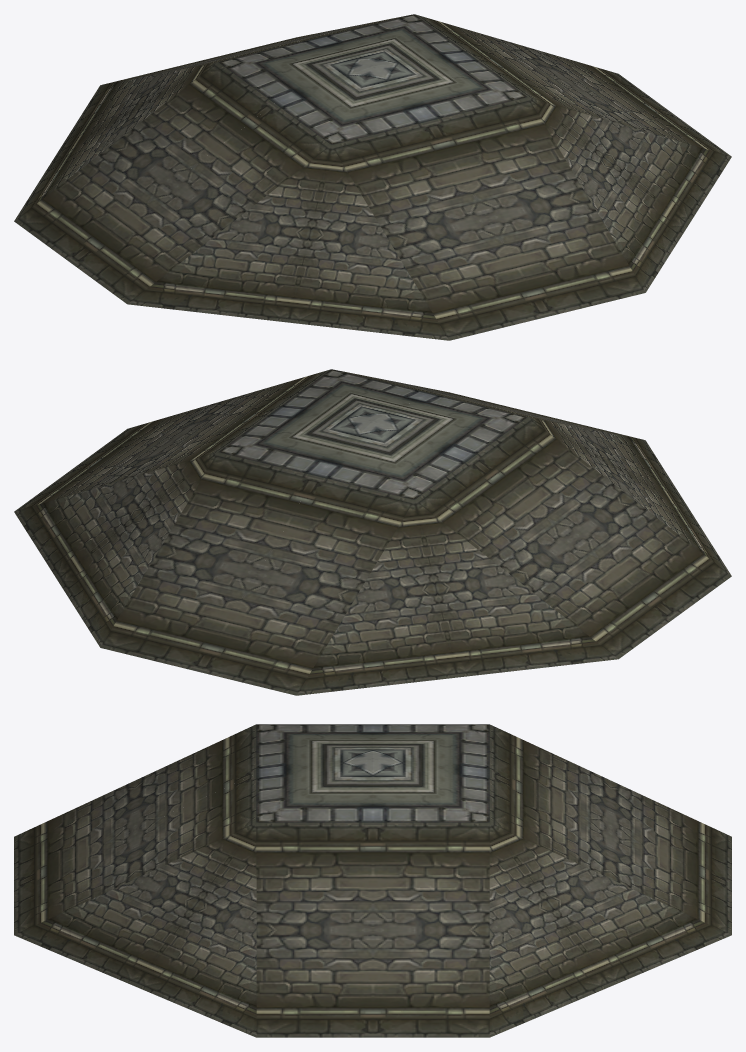
3 renders of one model, top to bottom at view 1: azimuth 30°, elevation 25°; view 2: azimuth 150°, elevation 25°; view 3: azimuth 270°, elevation 25°, orthographic. The views are drawn at different scales.
Parts seen in each view (by area): view 1: DN_1_4_dt01c_b; view 2: DN_1_4_dt01c_b; view 3: DN_1_4_dt01c_b.
Part boxes in pixels (bbox=[...]): DN_1_4_dt01c_b: bbox=[14, 14, 731, 340]; DN_1_4_dt01c_b: bbox=[14, 369, 731, 695]; DN_1_4_dt01c_b: bbox=[14, 724, 731, 1037].
Size of the model in its own units: 1946 by 379 by 1946.
